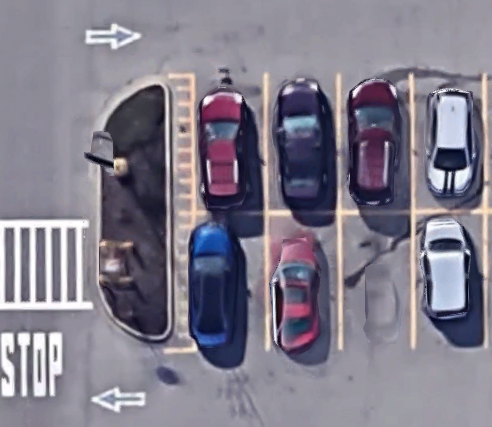Occupied: (193, 74, 267, 214), (339, 75, 413, 213), (412, 75, 487, 211), (267, 75, 340, 212), (194, 212, 267, 349), (412, 212, 485, 349), (340, 214, 413, 349), (268, 214, 340, 350)
